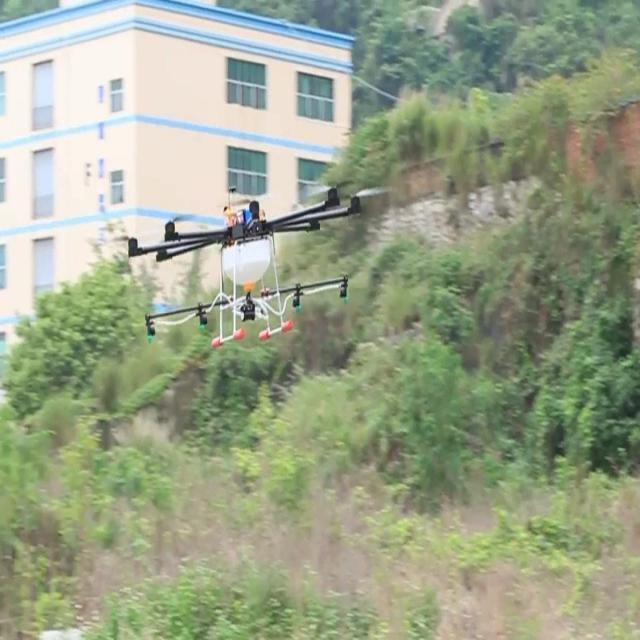UAV: (128, 180, 362, 348)
